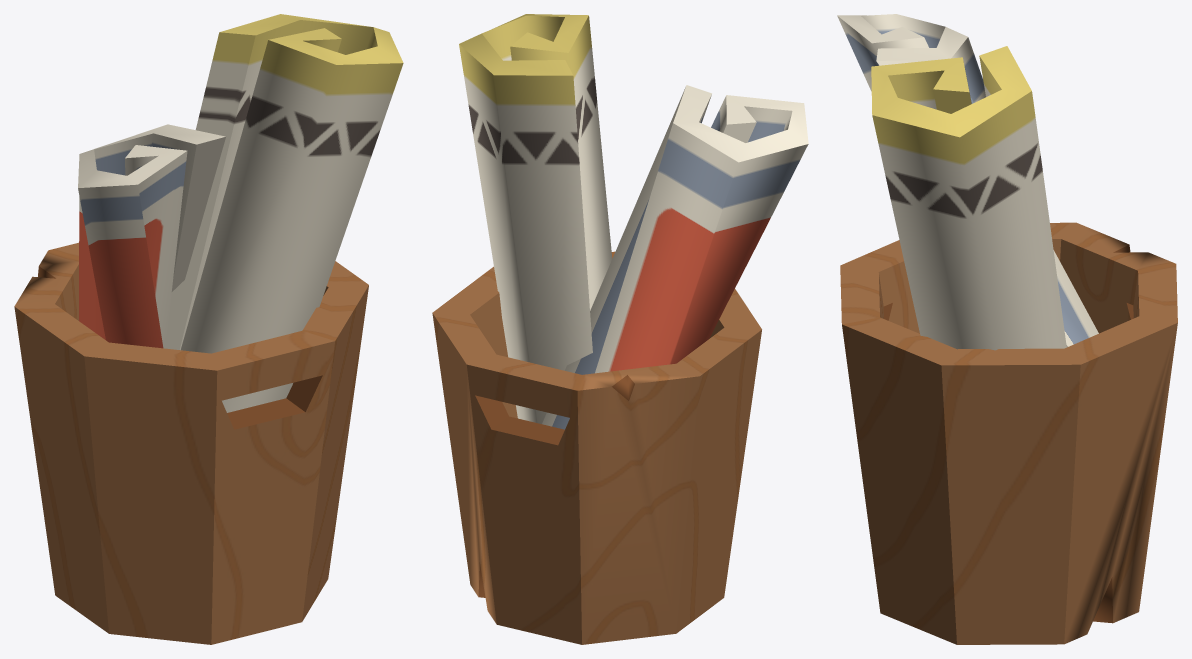
Rendered from ClothBarrel.fbx.
3 views of the same model, side by side, from view 1: azimuth 30°, elevation 25°; view 2: azimuth 150°, elevation 25°; view 3: azimuth 270°, elevation 25° (orthographic). The views are drawn at different scales.
Parts seen in each view (by area): view 1: ClothBarrel; view 2: ClothBarrel; view 3: ClothBarrel.
Part boxes in pixels (x1,y1,x2,y2): ClothBarrel: (14, 14, 403, 644); ClothBarrel: (432, 14, 808, 644); ClothBarrel: (837, 14, 1177, 644).
Bounding box in the file's own units: 103 × 158 × 87.08.
2 materials, 2 textured.
